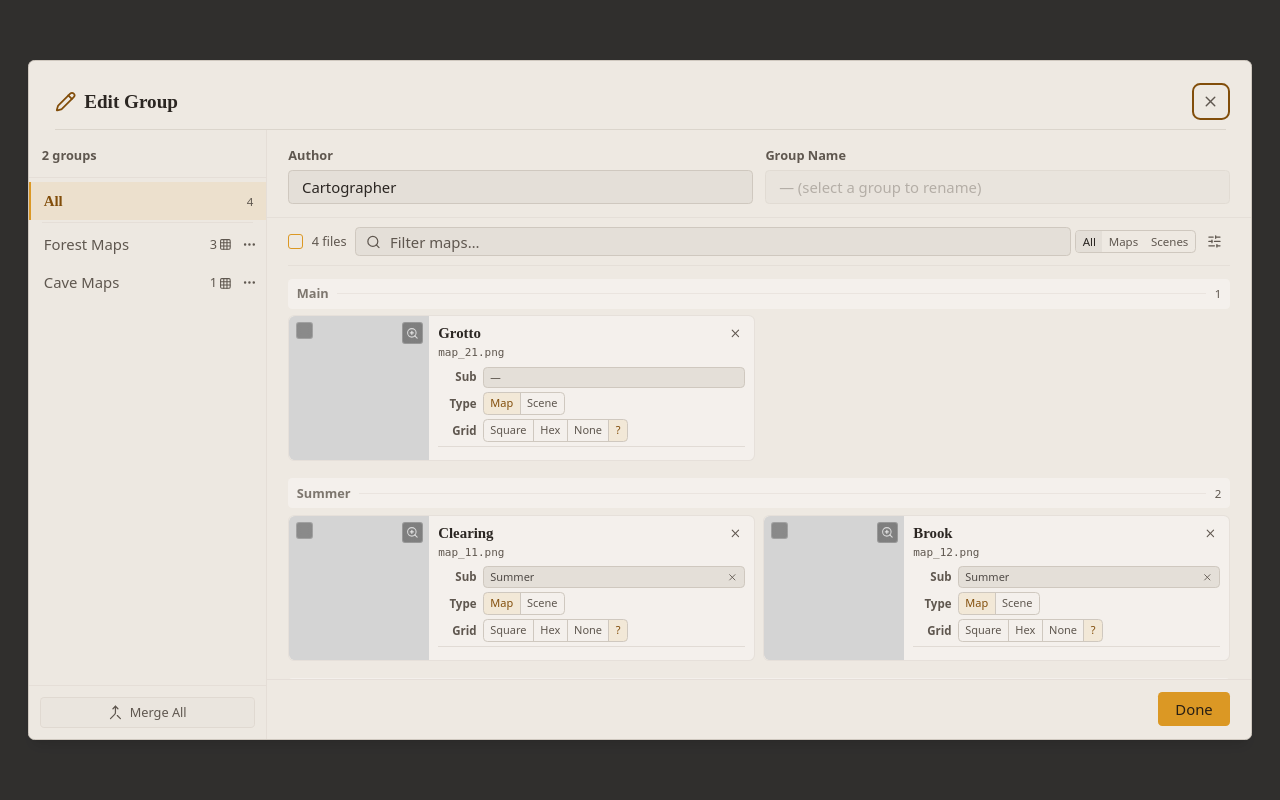
EditGroupDialog › several groups › lists groups in the sidebar and switches between them
Expected: the text "2 groups" is shown, [42,146,97,164]
Expected: the text "Grotto" is shown, [438,323,481,344]
Click the text "Cave Maps" at (82, 282), box [44,272,119,292]
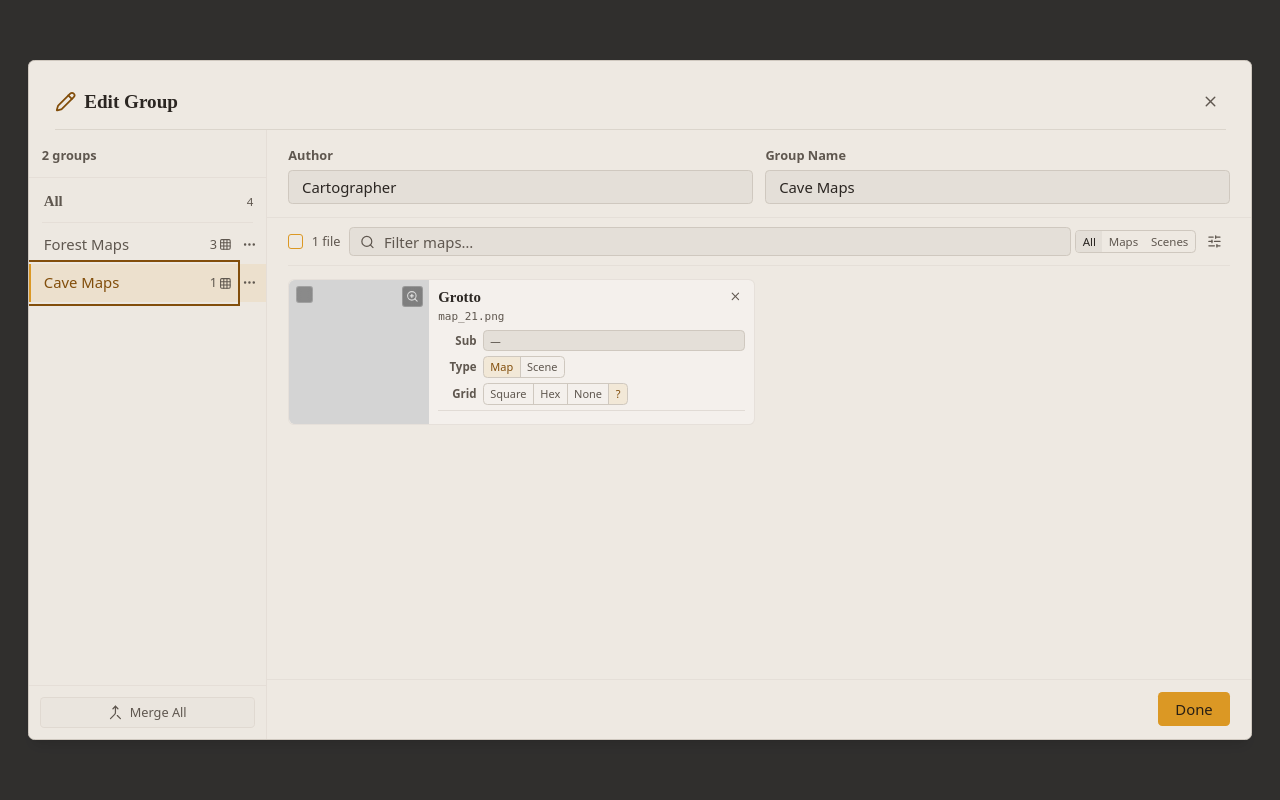
Now the field showing "Cave Maps" below "Group Name" is shown, box [765,170,1230,204]
Now the button "Clearing" is gone
